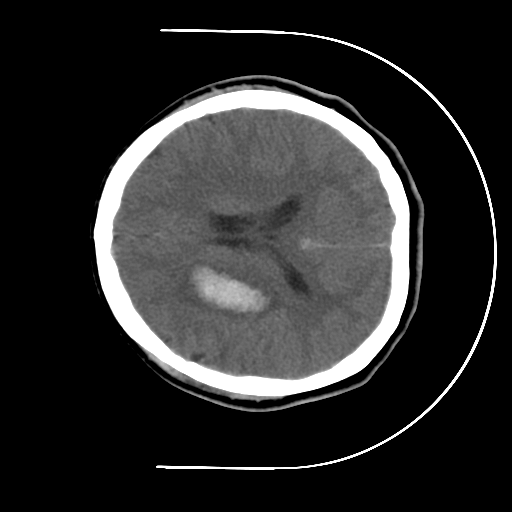a: (166, 249, 293, 335)
